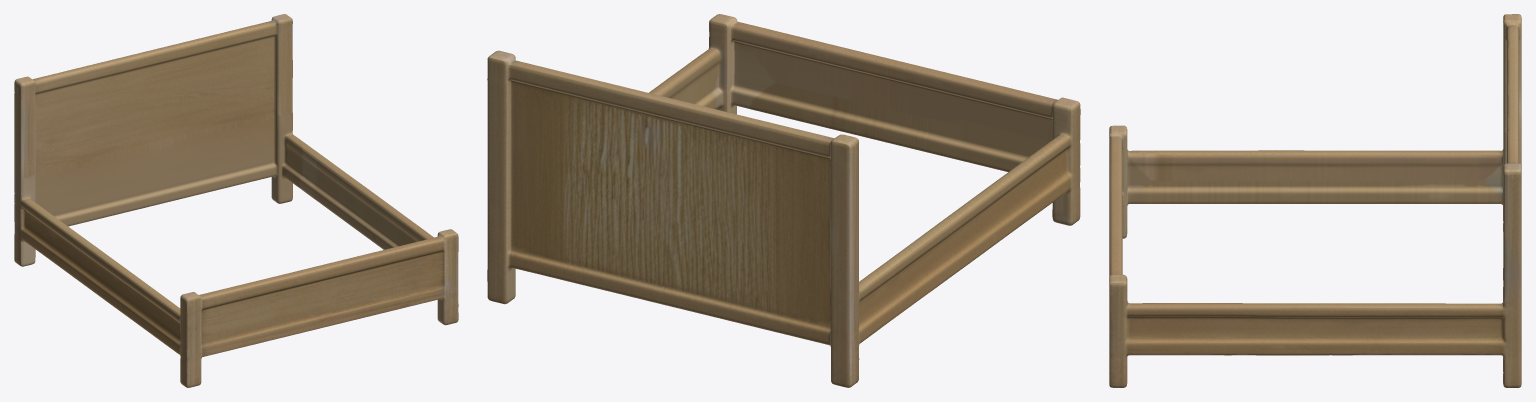
The model's file is bed__bed#5.glb.
3 renders of one model, left to right at view 1: azimuth 30°, elevation 25°; view 2: azimuth 150°, elevation 25°; view 3: azimuth 270°, elevation 25°, orthographic. The views are drawn at different scales.
Visible parts, largest first — view 1: tmpn4404c0_.ply; view 2: tmpn4404c0_.ply; view 3: tmpn4404c0_.ply.
Part boxes in pixels (left/top/right/bottom): tmpn4404c0_.ply: left=14, top=14, right=458, bottom=387; tmpn4404c0_.ply: left=487, top=14, right=1080, bottom=387; tmpn4404c0_.ply: left=1109, top=14, right=1521, bottom=387.
Bounding box in the file's own units: 1.81 × 1.16 × 1.99.
1 material, 1 textured.
